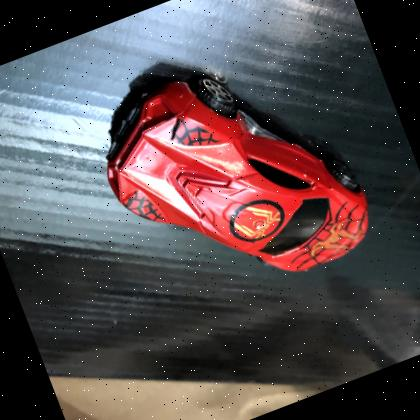Car: (105, 73, 368, 272)
